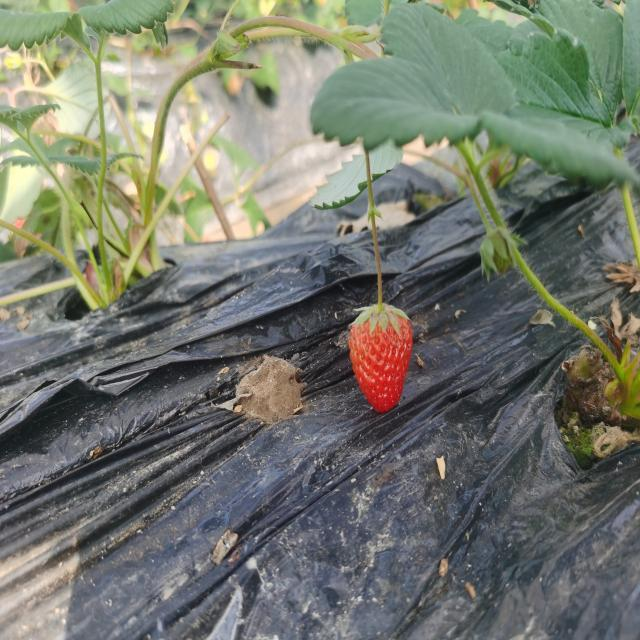stem: (376, 267, 383, 314)
strawberry: (349, 304, 413, 412)
